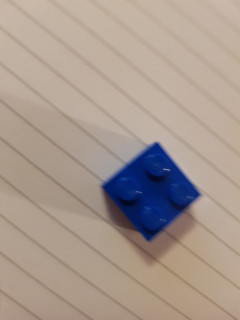2x2 blue: (100, 141, 203, 243)
